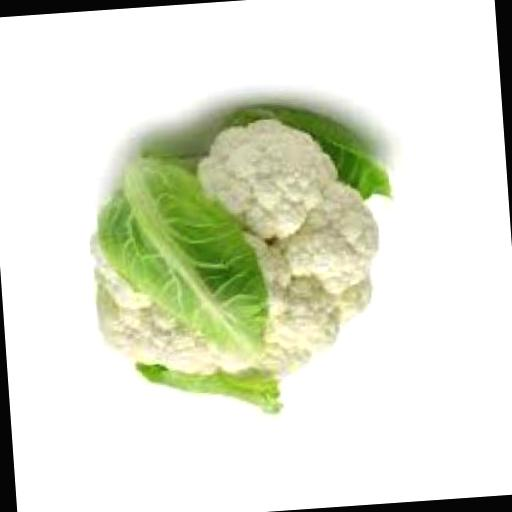biodegradable: (78, 97, 404, 428)
